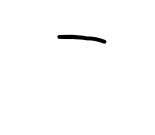mult: (57, 33, 106, 46)
